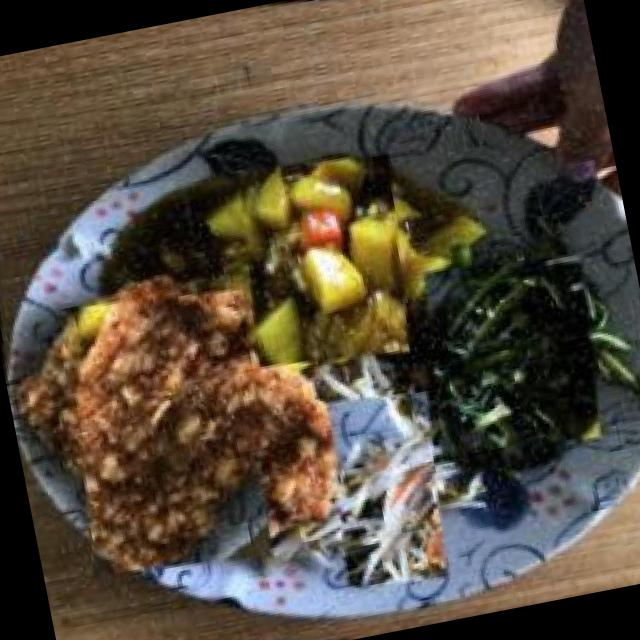curry: (210, 146, 438, 375)
fried_chicken: (22, 284, 315, 578)
mung_bean_sprouts: (305, 381, 464, 599)
water_spinach: (402, 237, 618, 470)
